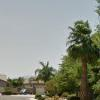Palm tree: (61, 14, 100, 96)
